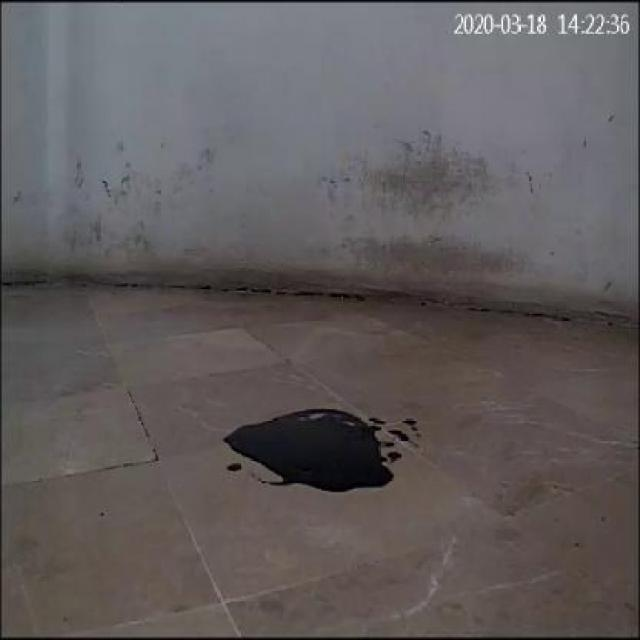spill: (226, 405, 414, 490)
